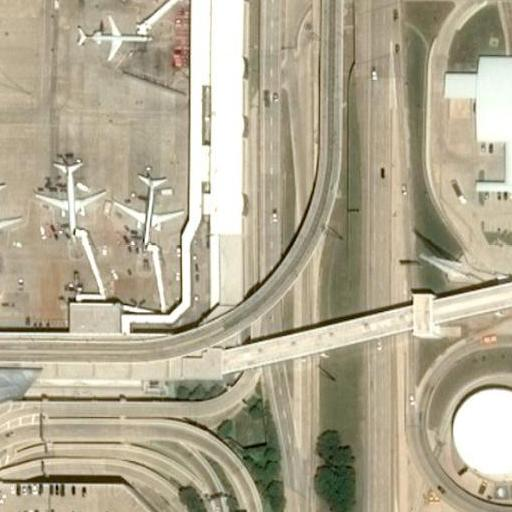Aircraft: (37, 157, 108, 238), (117, 177, 183, 255), (79, 15, 158, 62), (0, 177, 19, 258), (65, 0, 131, 4)
